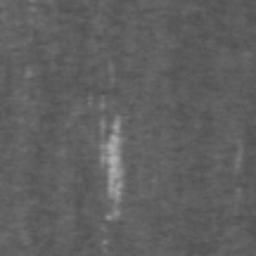White rust: (99, 114, 125, 221)
